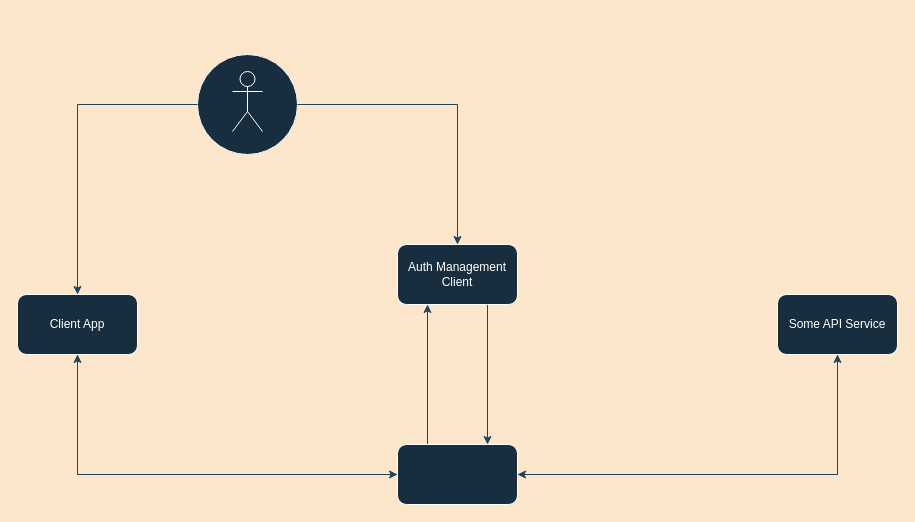
Image size: 915x522. Some labels were removed from this diagram. The shapes that lost their labels are listed below. From the top down, each one's box as (x1, y1, x2, y2) in pixels, then its label:
(232, 70, 262, 132): Client Developer
(396, 444, 518, 504): Central Auth Server
